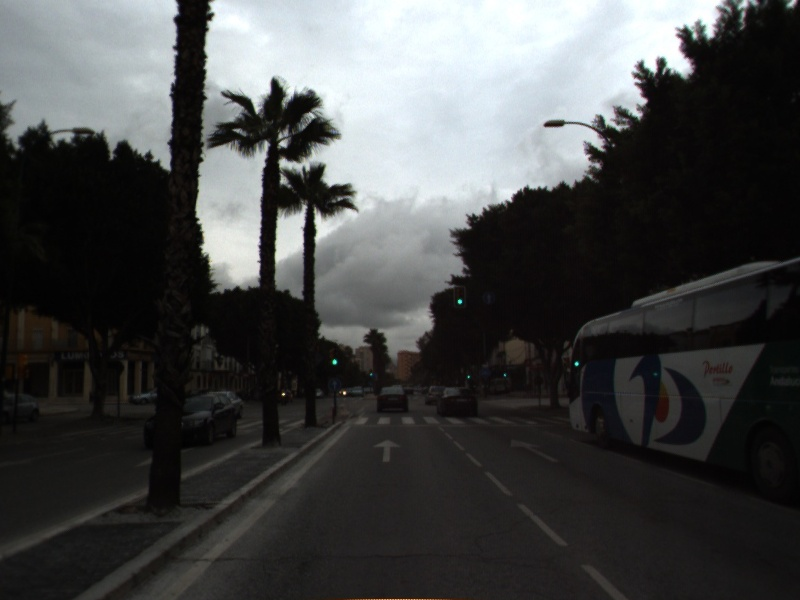STRAIGHT: (508, 436, 561, 464), (371, 437, 404, 464)
